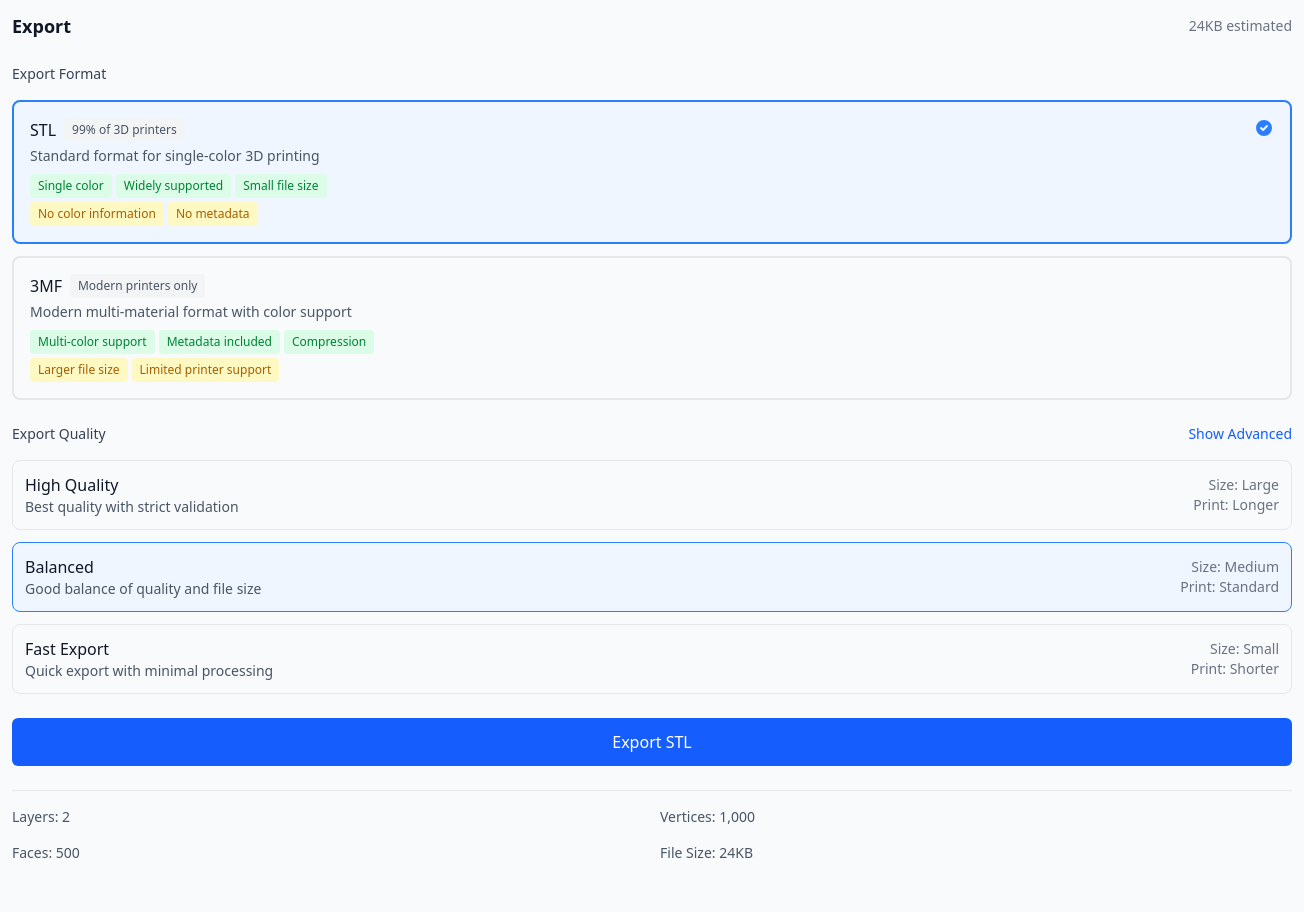
ExportPanel › shows advanced settings when toggled
Expected: the text "Advanced Options" is not shown
// Click show advanced
Step 1. Click the button "Show Advanced" → coordinates (1240, 434), box [1188,424,1292,444]
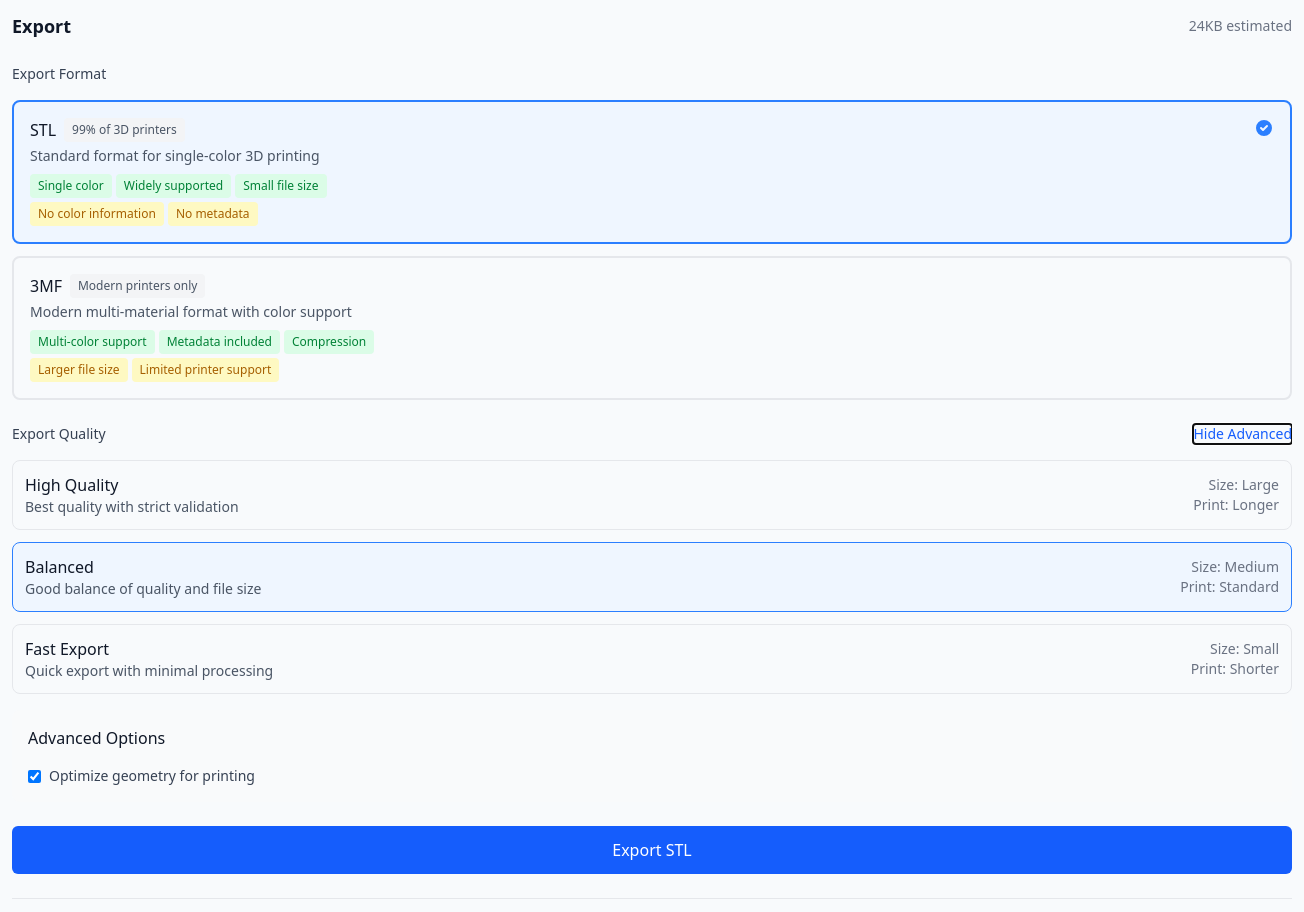
Now the heading "Advanced Options" is shown, box [28,727,165,749]
Now the text "Optimize geometry for printing" is shown, box [49,766,255,786]
